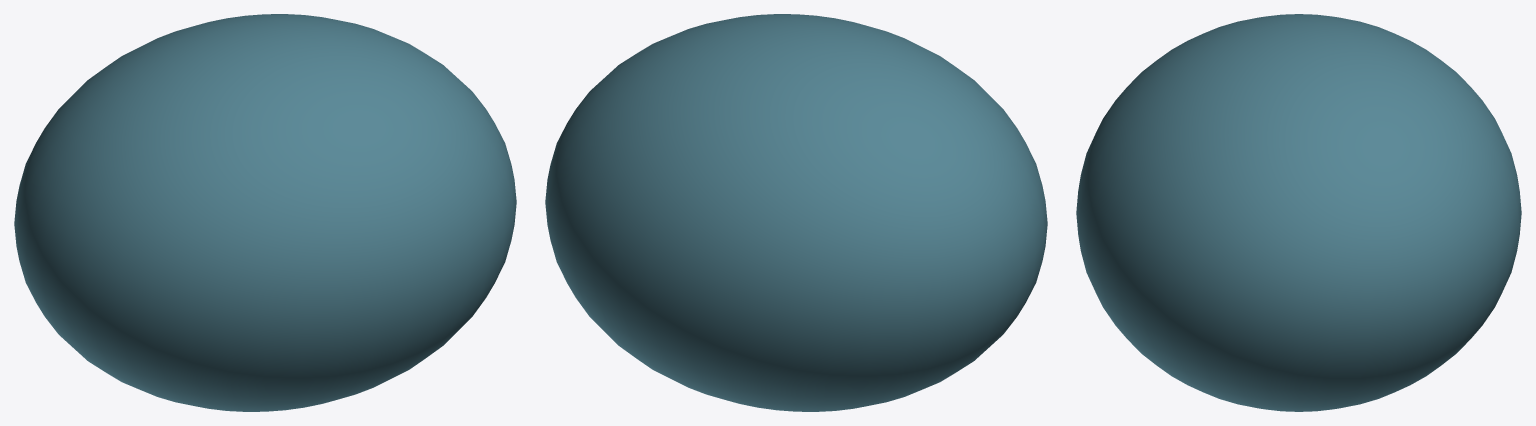
File: BlueBeanbag.fbx
3 views of the same model, side by side, from view 1: azimuth 30°, elevation 25°; view 2: azimuth 150°, elevation 25°; view 3: azimuth 270°, elevation 25° (orthographic). The views are drawn at different scales.
Parts seen in each view (by area): view 1: Blue beanbag; view 2: Blue beanbag; view 3: Blue beanbag.
Part boxes in pixels (left/top/right/bottom): Blue beanbag: left=14, top=14, right=516, bottom=411; Blue beanbag: left=545, top=14, right=1047, bottom=411; Blue beanbag: left=1076, top=14, right=1521, bottom=411.
Bounding box in the file's own units: 136 × 100 × 120.
